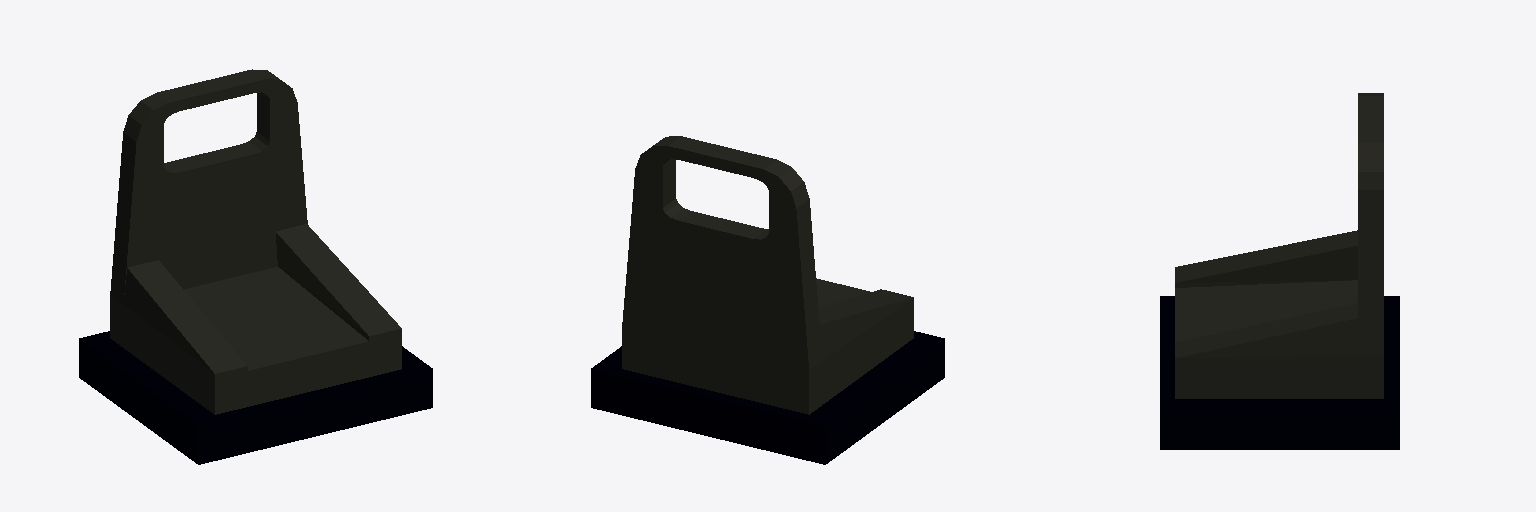
File: Chair2.obj
3 views of the same model, side by side, from view 1: azimuth 30°, elevation 25°; view 2: azimuth 150°, elevation 25°; view 3: azimuth 270°, elevation 25° (orthographic).
Visible parts, largest first — view 1: Chair2_Cube.002; view 2: Chair2_Cube.002; view 3: Chair2_Cube.002.
Boxes of the visible parts, x1=… form: Chair2_Cube.002: x1=79, y1=69, x2=432, y2=464; Chair2_Cube.002: x1=591, y1=136, x2=944, y2=464; Chair2_Cube.002: x1=1160, y1=93, x2=1399, y2=449.
Bounding box in the file's own units: 4.08 × 4.54 × 3.61.